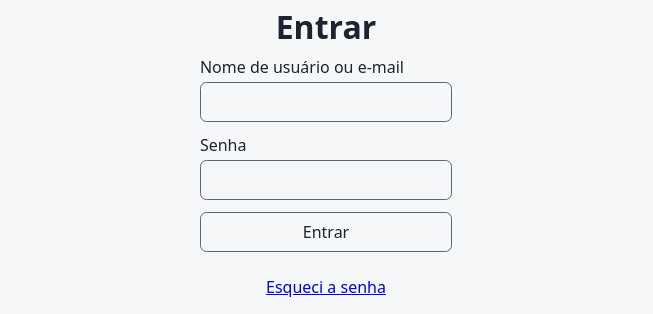
Test: entrar e sair › entra com identificador e senha, enviando o token CSRF
Type "bia" into the field labelled "Nome de usuário ou e-mail" at (326, 102), box x1=200 y1=82 x2=452 y2=122
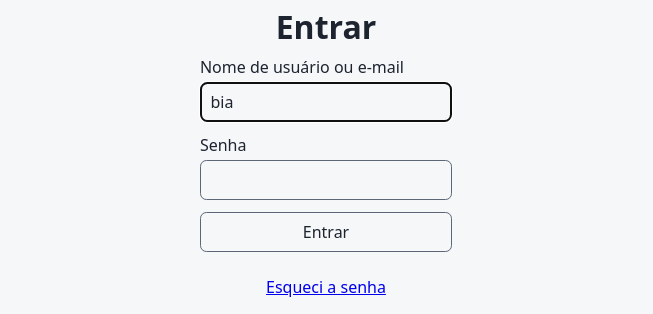
Type "uma-senha-comprida" into the password field labelled "Senha" at (326, 180), box x1=200 y1=160 x2=452 y2=200
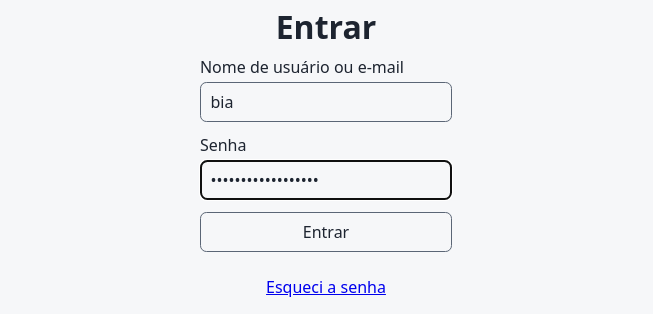
Click the button "Entrar" at (326, 232), box x1=200 y1=212 x2=452 y2=252
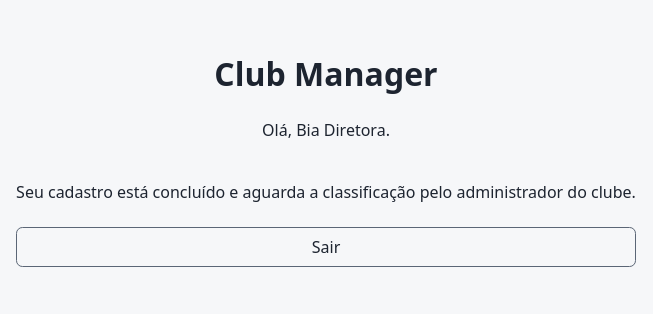
Result: the text "aguarda a classificação" is shown at x1=16 y1=180 x2=636 y2=202
